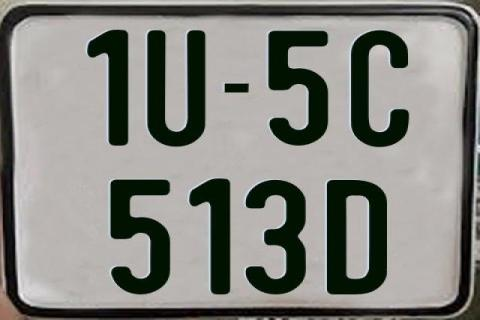0: (107, 178, 173, 296), (266, 28, 328, 146), (243, 179, 307, 293), (87, 28, 133, 148), (188, 176, 229, 294)
C: (351, 29, 410, 149)
D: (325, 177, 386, 293)
U: (146, 30, 204, 146)
